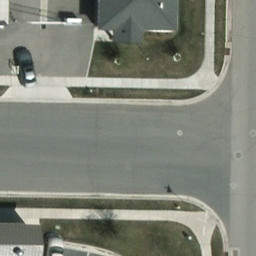car: (14, 49, 37, 89)
